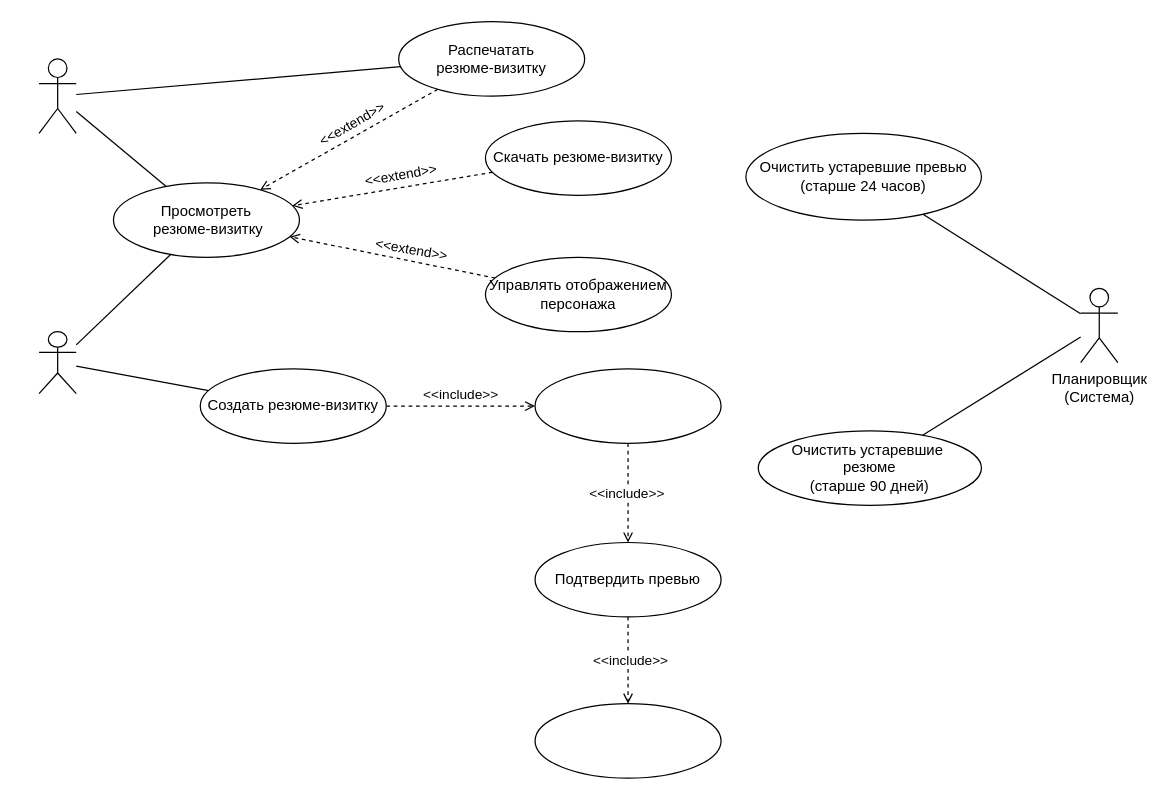
Image size: 1168x800. Some labels were removed from this diagram. The shapes that lost their labels are listed below. From the top down, each one's centre as x and y in pixels, then its label:
point (57, 95): Гость (Рекрутер)
point (57, 362): Клиент
point (627, 405): Создать заявку на резюме-визитку
point (627, 740): Получить ссылки на резюме-визитку
